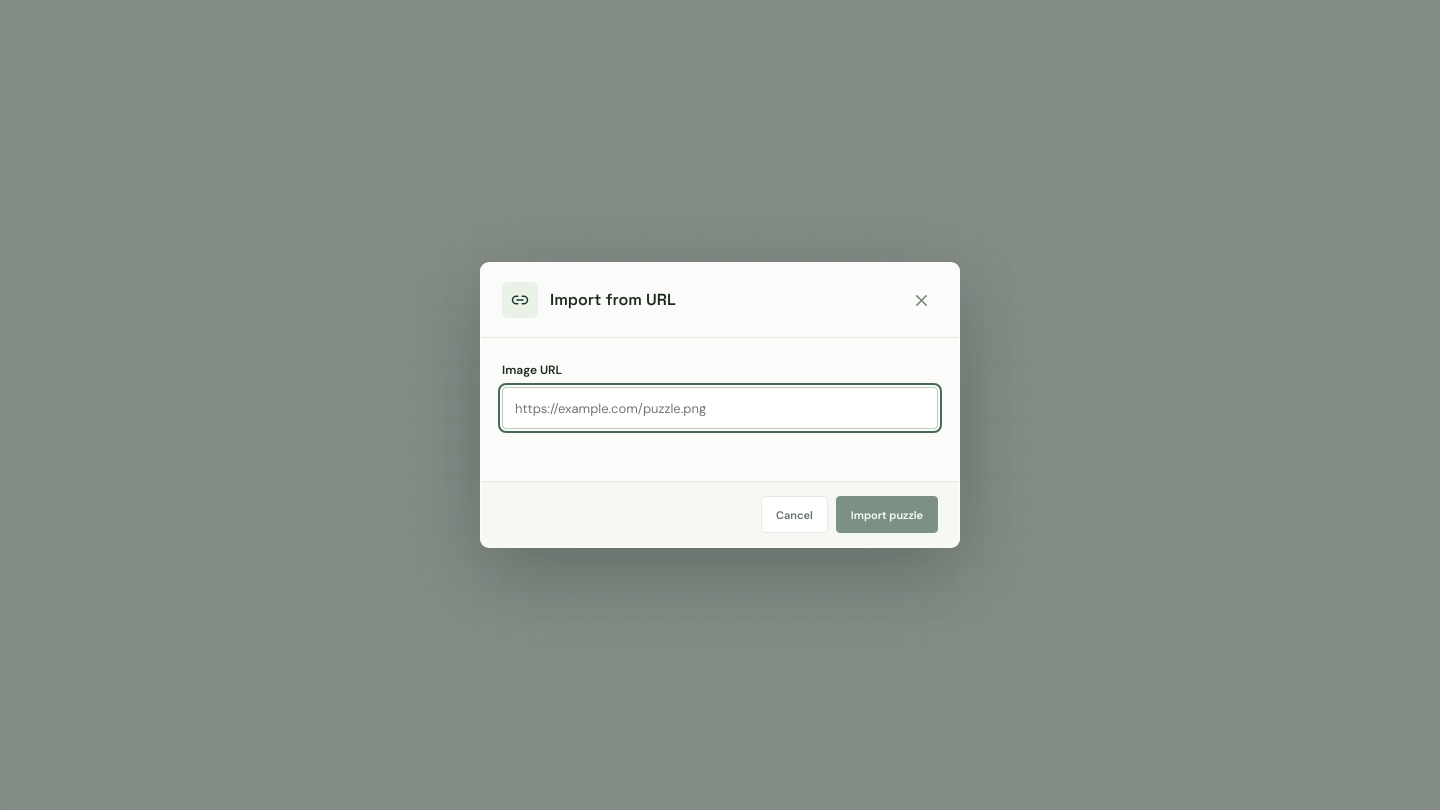
Scenario: reports backend errors and retries the same URL successfully
Type "https://images.test/puzzle.png" into the field labelled "Image URL".
click(720, 408); type("https://images.test/puzzle.png")  # box top-left (502, 387), bottom-right (938, 429)
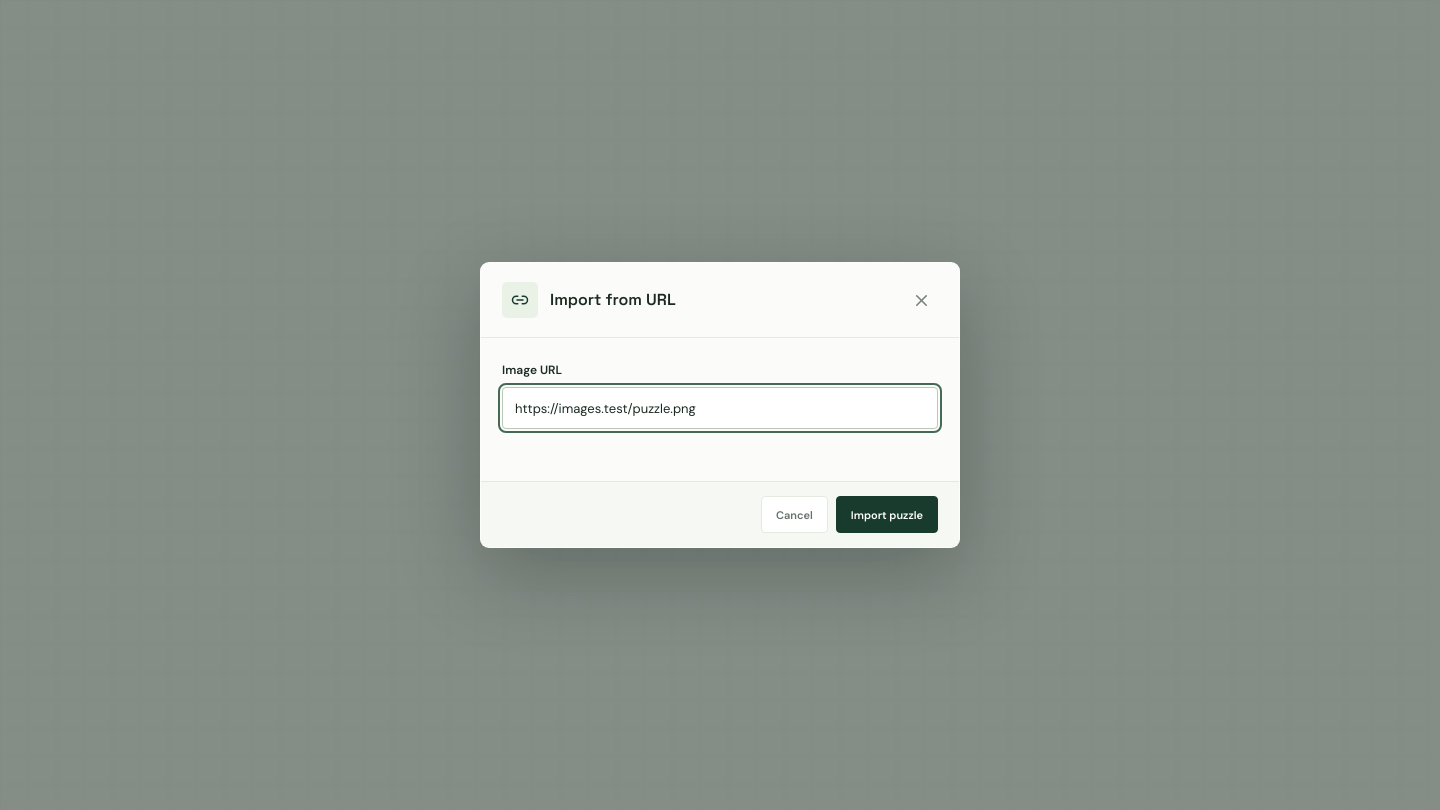
Click the button "Import puzzle".
click(887, 514)  # box top-left (836, 496), bottom-right (938, 533)
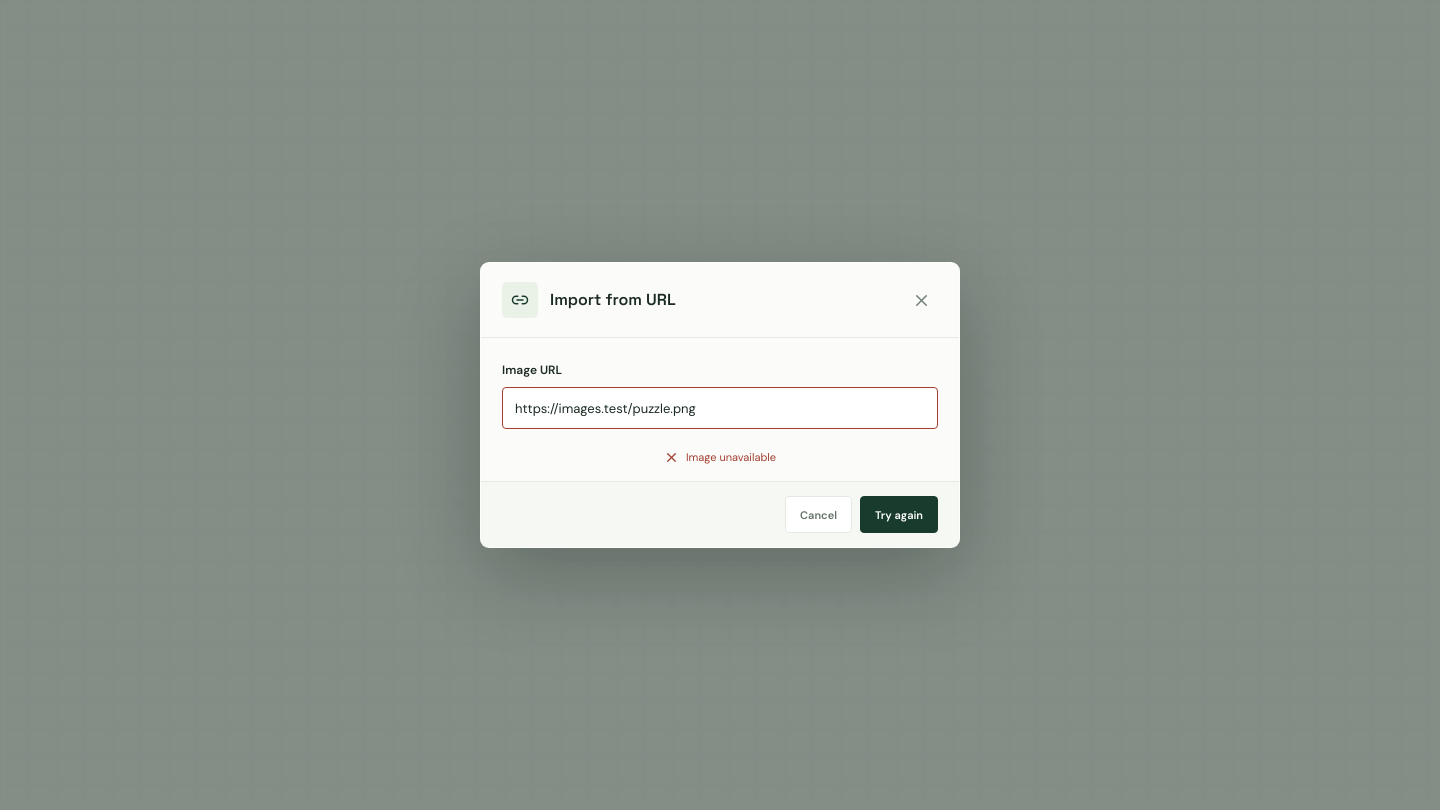
Expected: the text "Image unavailable" is shown, top-left (664, 450), bottom-right (776, 464)
Click the button "Try again".
click(899, 514)  # box top-left (860, 496), bottom-right (938, 533)
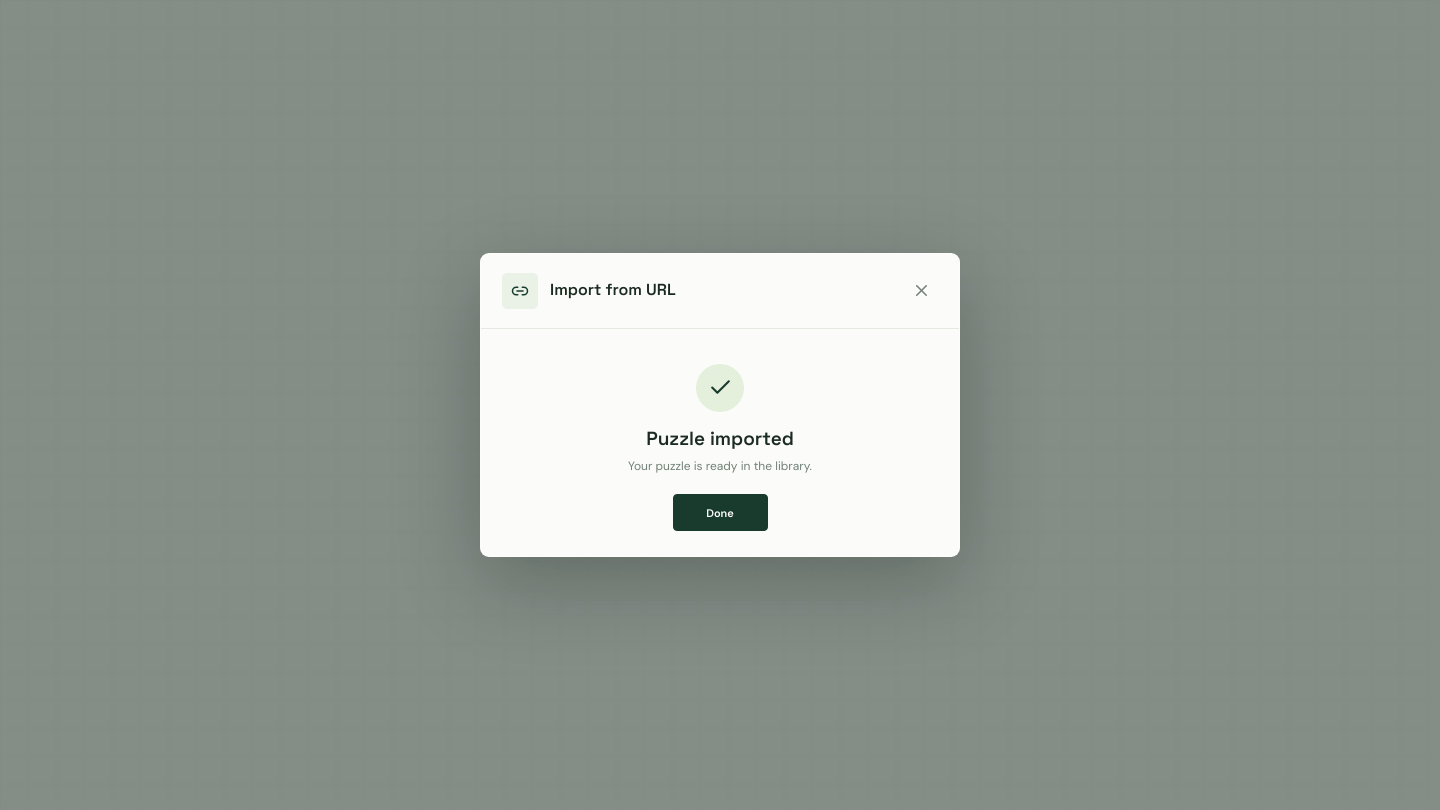
Expected: the heading "Puzzle imported" is shown, top-left (646, 427), bottom-right (794, 451)
